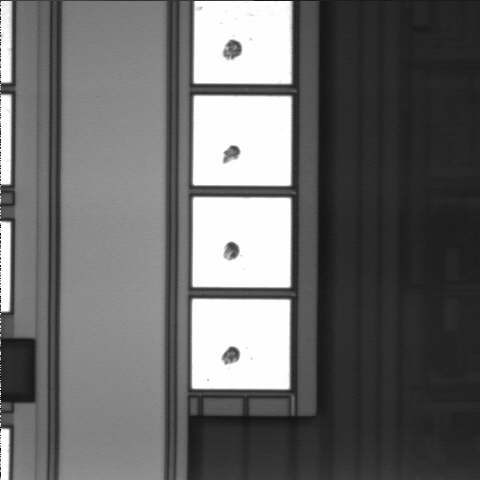pad: (193, 96, 291, 186), (193, 197, 291, 287), (192, 299, 290, 389)
